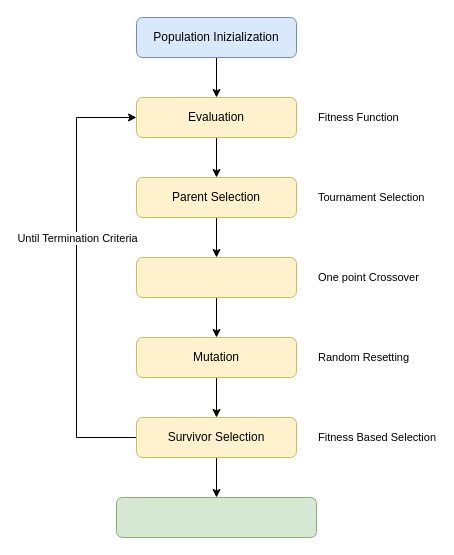
Image size: 454x555. Some labels were removed from this diagram. Here are the shapes that lost their labels. From the top down, the centre of each, then its label:
At point 216,277: "Crossover".
At point 216,517: "Terminate and Return the best".
